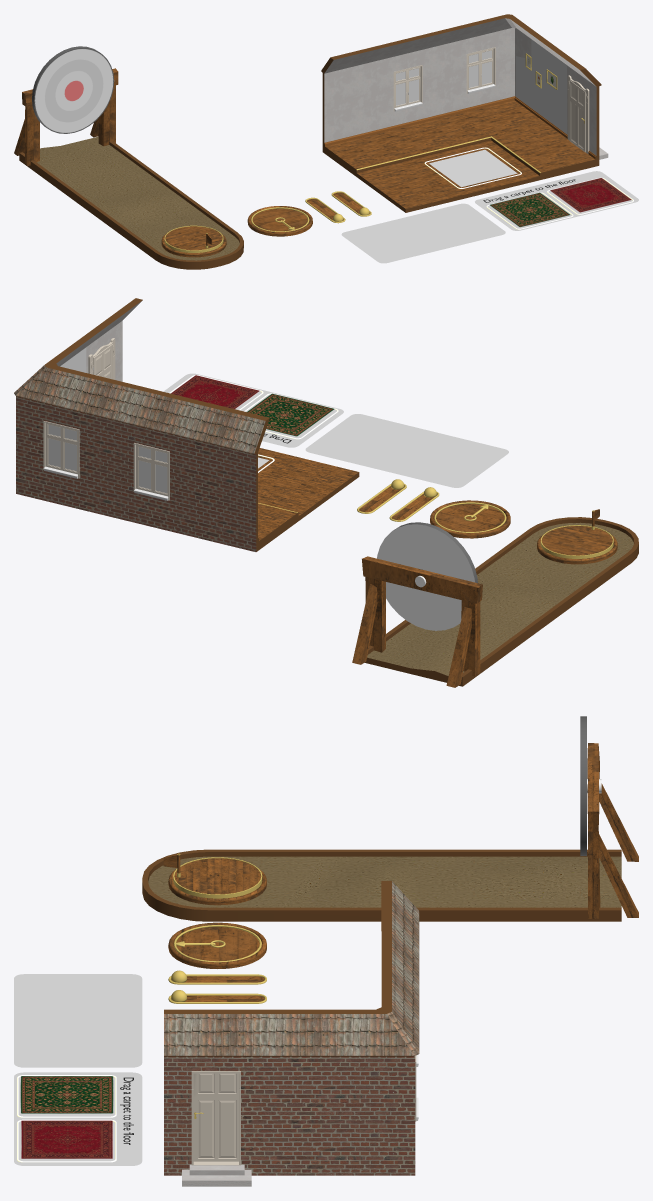
File: Room.glb
3 renders of one model, top to bottom at view 1: azimuth 30°, elevation 25°; view 2: azimuth 150°, elevation 25°; view 3: azimuth 270°, elevation 25°, orthographic. The views are drawn at different scales.
Visible parts, largest first — view 1: FloorSnapSurface, Wall, Plane.002, Cylinder, CatalogPanel, Wall.002, WallImagesDragPlane, Floor, CarpetsPanel, CarpetSocket, Carpet2, Carpet1 (+12 smaller); view 2: Wall, Plane.002, Wall.002, CatalogPanel, Cylinder, FloorSnapSurface, Cube.008, Circle, CanonPlatform, Carpet1, Carpet2, CarpetsPanel (+10 smaller); view 3: Plane.002, Wall, Wall.002, CatalogPanel, CarpetsPanel, Door, Carpet2, Carpet1, Circle, CanonPlatform, Wall.001, Cube.008 (+9 smaller).
Part boxes in pixels (bbox=[...]): FloorSnapSurface: bbox=[325, 100, 594, 208]; Wall: bbox=[322, 28, 599, 166]; Plane.002: bbox=[19, 134, 243, 269]; Cylinder: bbox=[32, 46, 114, 133]; CatalogPanel: bbox=[341, 203, 505, 263]; Wall.002: bbox=[321, 14, 601, 86]; WallImagesDragPlane: bbox=[516, 39, 566, 133]; Floor: bbox=[324, 136, 596, 212]; CarpetsPanel: bbox=[475, 171, 638, 230]; CarpetSocket: bbox=[429, 149, 517, 187]; Carpet2: bbox=[550, 178, 631, 212]; Carpet1: bbox=[490, 192, 569, 226]; Wall: bbox=[16, 321, 257, 551]; Plane.002: bbox=[364, 517, 638, 686]; Wall.002: bbox=[14, 298, 269, 454]; CatalogPanel: bbox=[305, 414, 508, 487]; Cylinder: bbox=[377, 522, 477, 630]; FloorSnapSurface: bbox=[258, 448, 358, 540]; Cube.008: bbox=[362, 556, 482, 603]; Circle: bbox=[430, 500, 510, 538]; CanonPlatform: bbox=[540, 509, 613, 558]; Carpet1: bbox=[247, 393, 334, 436]; Carpet2: bbox=[171, 375, 259, 409]; CarpetsPanel: bbox=[163, 373, 343, 447]; Plane.002: bbox=[142, 849, 621, 921]; Wall: bbox=[164, 1056, 415, 1175]; Wall.002: bbox=[164, 881, 419, 1056]; CatalogPanel: bbox=[14, 974, 142, 1067]; CarpetsPanel: bbox=[14, 1072, 142, 1165]; Door: bbox=[193, 1073, 238, 1161]; Carpet2: bbox=[21, 1120, 112, 1158]; Carpet1: bbox=[20, 1076, 113, 1113]; Circle: bbox=[168, 922, 266, 968]; CanonPlatform: bbox=[163, 853, 262, 898]; Wall.001: bbox=[182, 1164, 251, 1186]; Cube.008: bbox=[587, 743, 599, 831].
Bounding box in the file's own units: 15.88 × 3.78 × 12.67.
24 materials, 13 textured.
